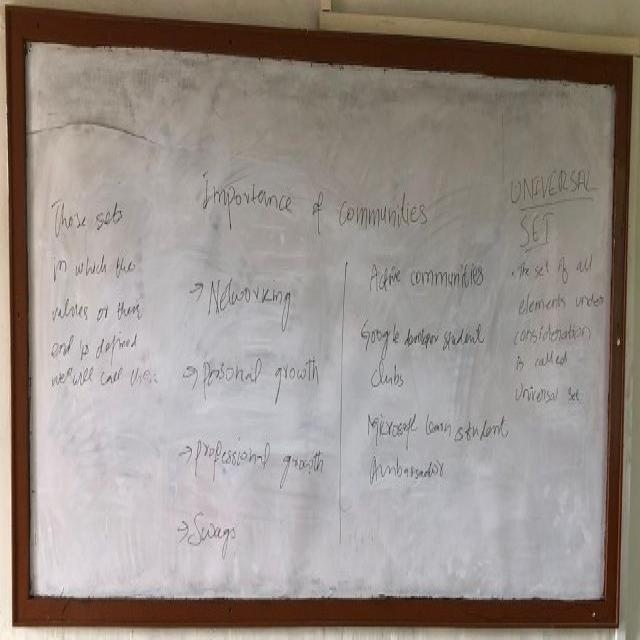White-board: (18, 21, 627, 618)
